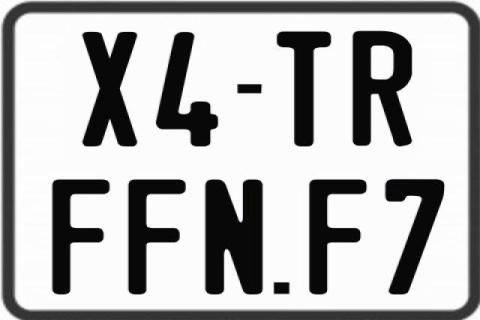0: (155, 31, 222, 151), (382, 177, 446, 293)
F: (49, 178, 107, 298), (309, 178, 367, 298), (126, 179, 184, 295)
N: (206, 179, 266, 297)
R: (350, 29, 414, 145)
T: (275, 29, 330, 147)
X: (82, 32, 140, 150)
